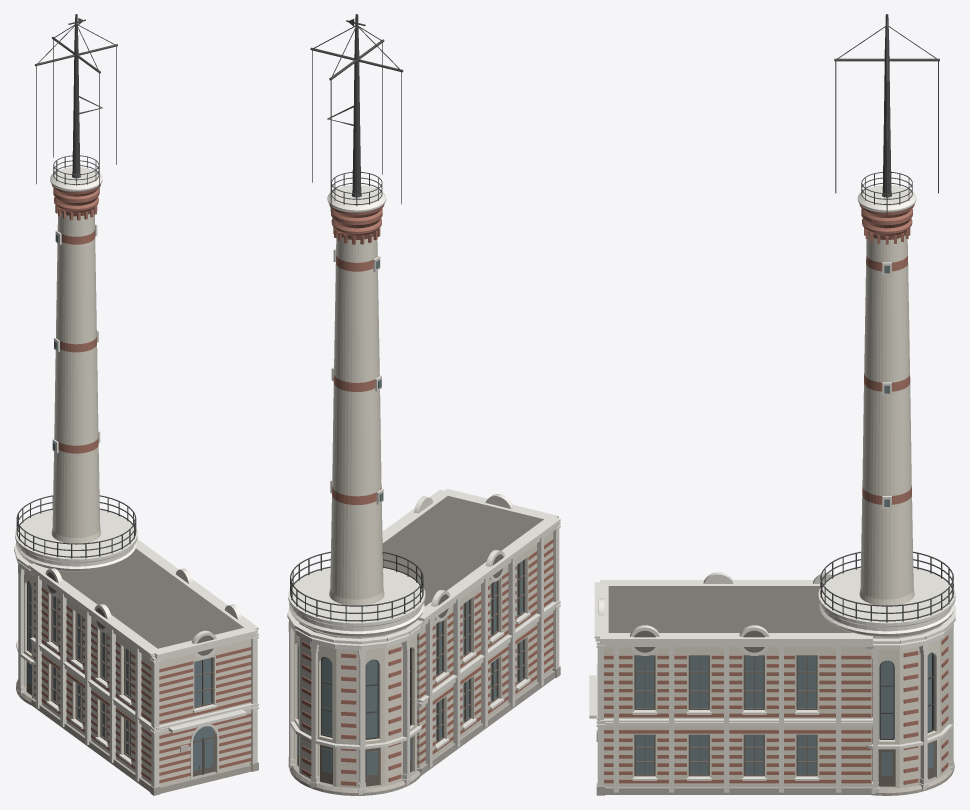
The model's file is huangpu-bund-signal-tower-lod.glb.
3 renders of one model, left to right at view 1: azimuth 30°, elevation 25°; view 2: azimuth 150°, elevation 25°; view 3: azimuth 270°, elevation 25°, orthographic. The views are drawn at different scales.
Parts seen in each view (by area): view 1: 外滩信号台（现址塔身、号杆与站房）; view 2: 外滩信号台（现址塔身、号杆与站房）; view 3: 外滩信号台（现址塔身、号杆与站房）.
Part boxes in pixels (bbox=[...]): 外滩信号台（现址塔身、号杆与站房）: bbox=[14, 14, 258, 795]; 外滩信号台（现址塔身、号杆与站房）: bbox=[287, 14, 560, 795]; 外滩信号台（现址塔身、号杆与站房）: bbox=[589, 14, 955, 795].
Size of the model in its own units: 7.96 by 47.4 by 20.92.
